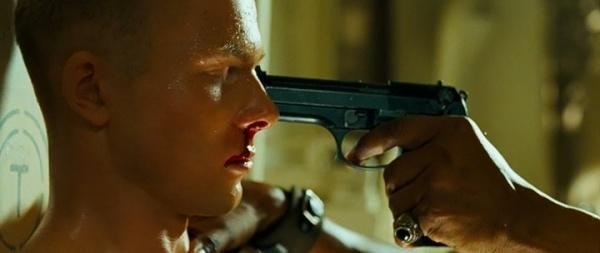Gun: (257, 71, 470, 173)
